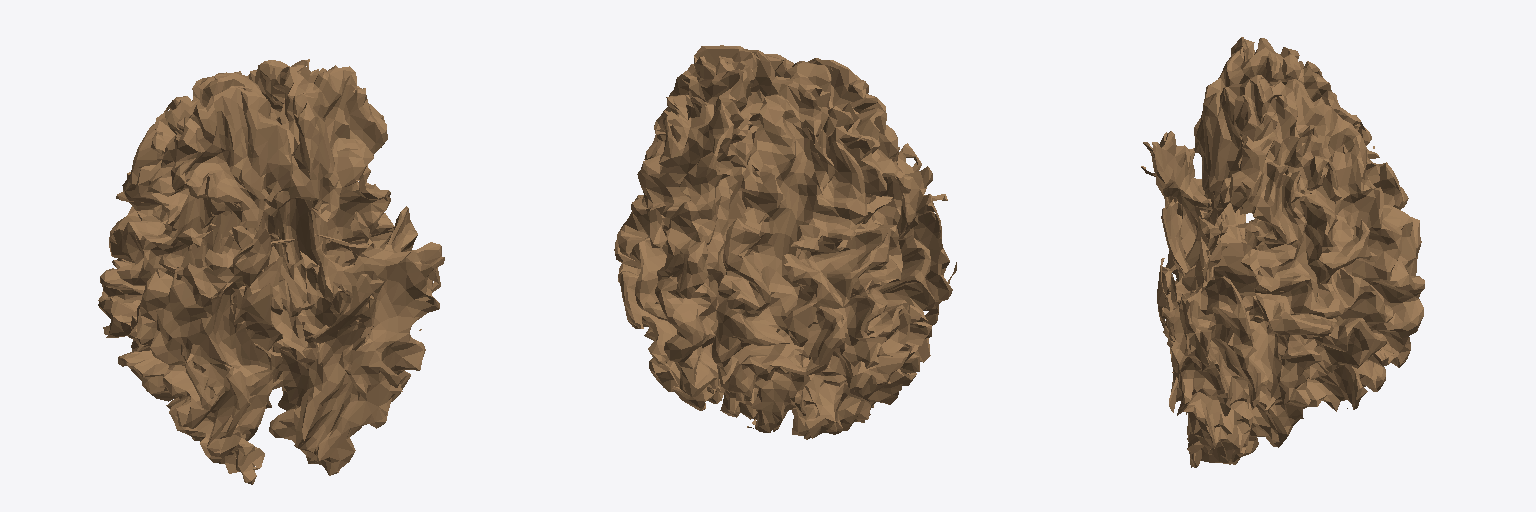
The model's file is white_matter.obj.
The picture shows the model from 3 angles: view 1: azimuth 30°, elevation 25°; view 2: azimuth 150°, elevation 25°; view 3: azimuth 270°, elevation 25°; orthographic projection.
Parts seen in each view (by area): view 1: White_Matter; view 2: White_Matter; view 3: White_Matter.
Part boxes in pixels (x1,y1,x2,y2): White_Matter: (98, 59, 444, 484); White_Matter: (614, 45, 956, 439); White_Matter: (1141, 37, 1424, 467).
Size of the model in its own units: 375 by 482 by 324.